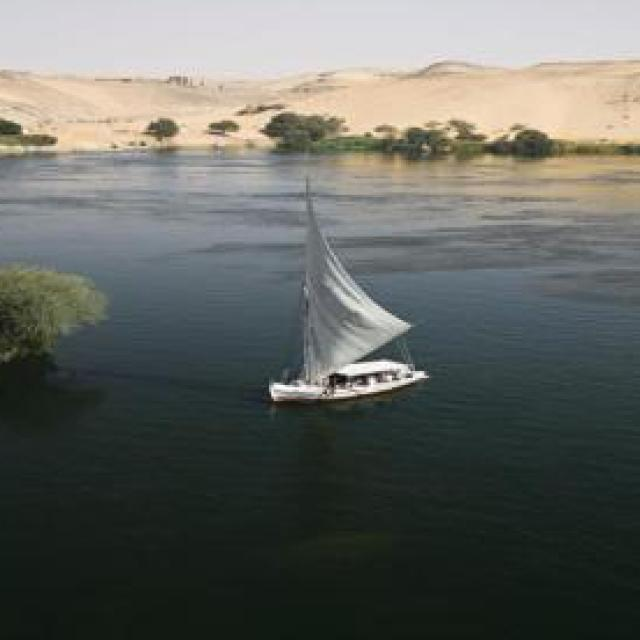sailboat: (266, 165, 424, 403)
